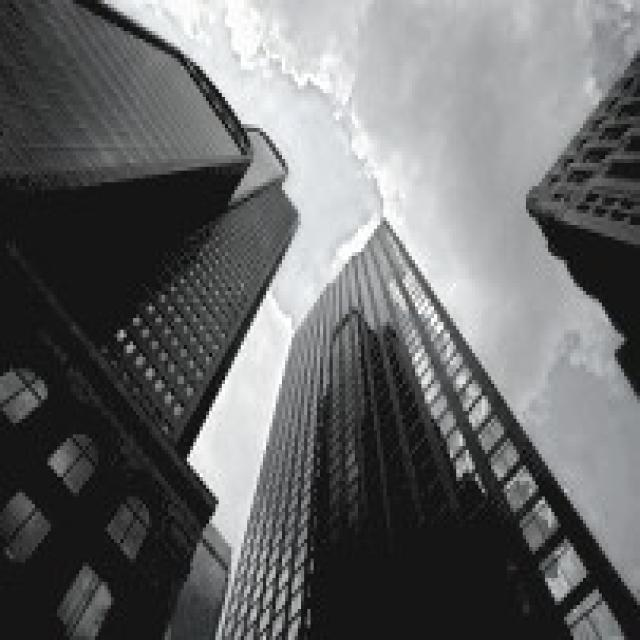building: (0, 0, 302, 640), (212, 209, 637, 640), (525, 45, 640, 402)
